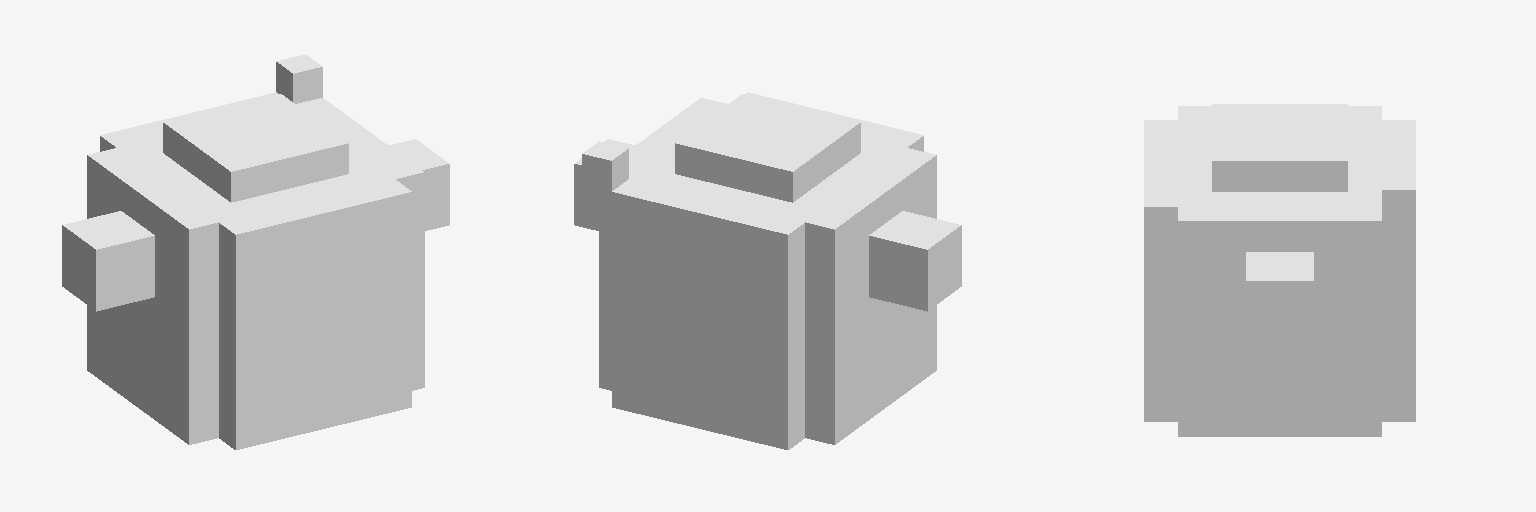
File: SirHiggins_Torso.obj
3 renders of one model, left to right at view 1: azimuth 30°, elevation 25°; view 2: azimuth 150°, elevation 25°; view 3: azimuth 270°, elevation 25°, orthographic.
Parts seen in each view (by area): view 1: object 1; view 2: object 1; view 3: object 1.
Part boxes in pixels (left/top/right/bottom): object 1: left=62, top=54, right=449, bottom=449; object 1: left=574, top=92, right=961, bottom=449; object 1: left=1144, top=104, right=1415, bottom=436.
Size of the model in its own units: 1.2 by 0.8 by 0.8.